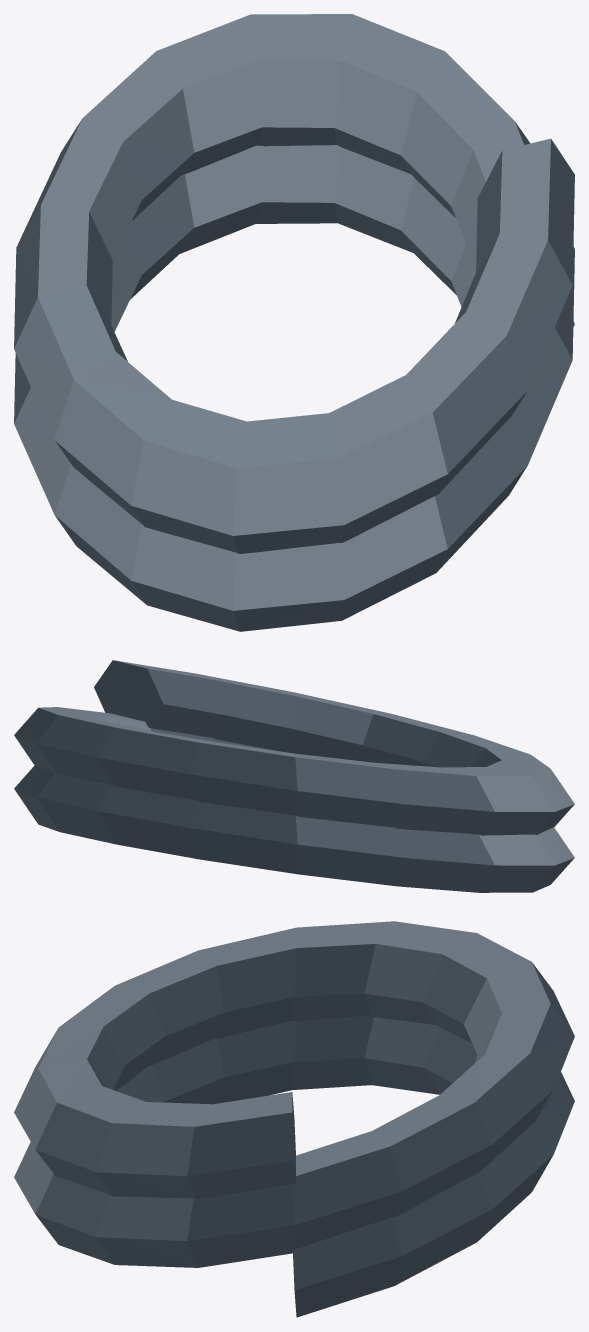
The model's file is Spring_Coil.gltf.
The picture shows the model from 3 angles, top to bottom: view 1: azimuth 30°, elevation 25°; view 2: azimuth 150°, elevation 25°; view 3: azimuth 270°, elevation 25°; orthographic projection. The views are drawn at different scales.
Parts seen in each view (by area): view 1: Spring_Coil_baked; view 2: Spring_Coil_baked; view 3: Spring_Coil_baked.
Part boxes in pixels (x1,y1,x2,y2): Spring_Coil_baked: (14, 14, 574, 631); Spring_Coil_baked: (14, 660, 574, 892); Spring_Coil_baked: (14, 921, 574, 1317).
Size of the model in its own units: 0.5212 by 0.2803 by 0.484.
